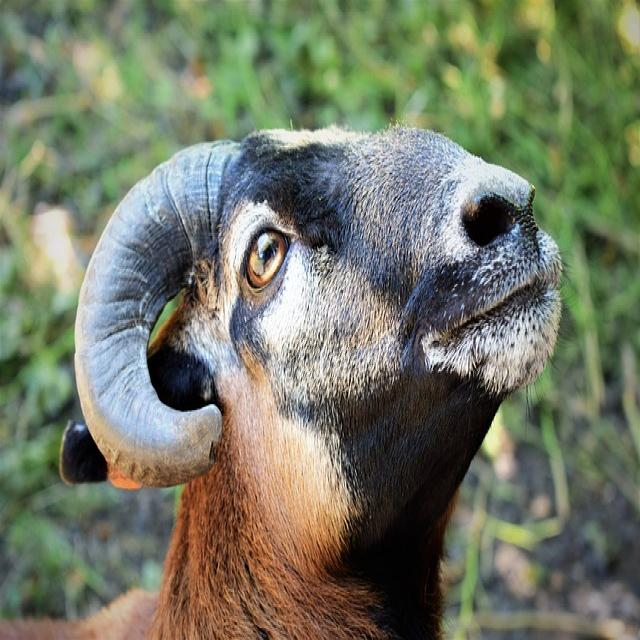goat: (61, 128, 563, 640)
